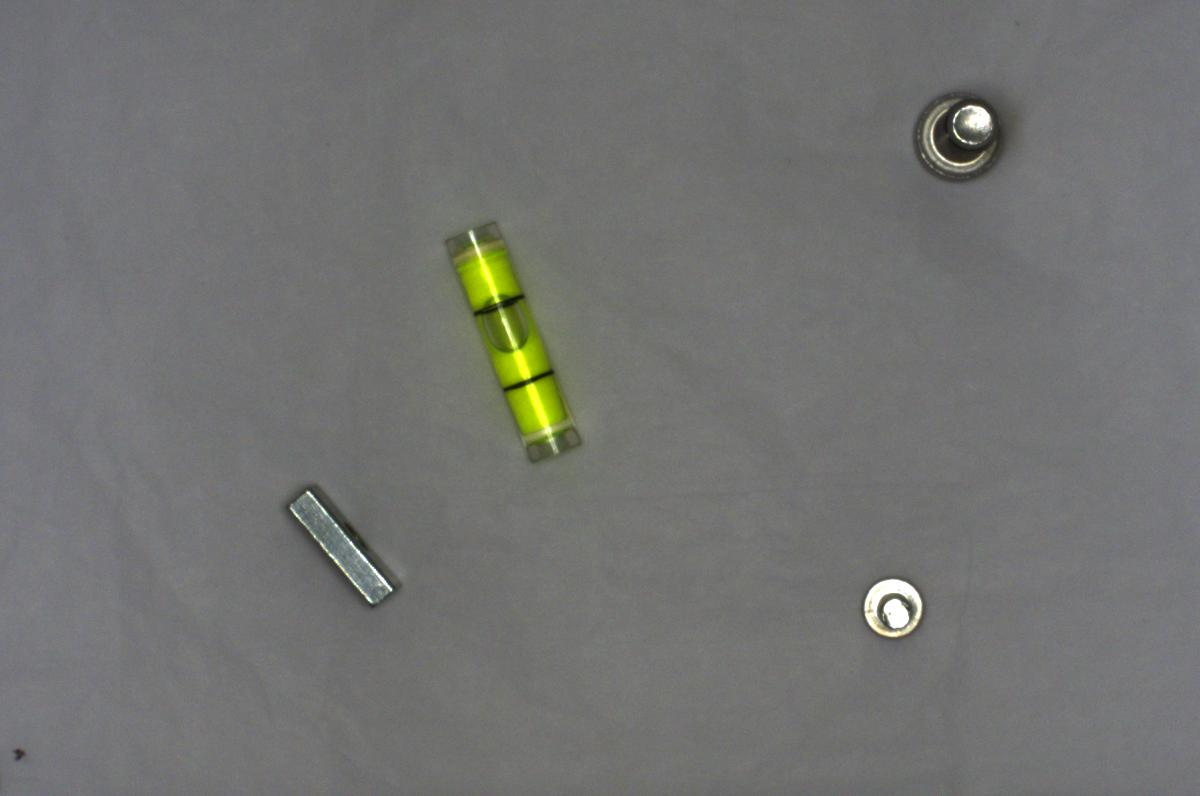Hexagon screw: (901, 88, 1006, 193)
Horizontal bubble: (442, 210, 581, 467)
Rectangular nut: (278, 481, 408, 615)
Round head screw: (845, 562, 937, 658)
